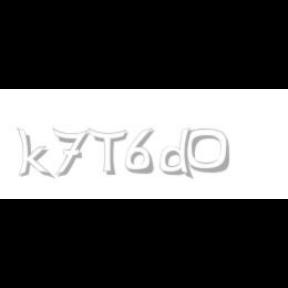6: (126, 128, 154, 176)
7: (53, 128, 90, 178)
O: (186, 128, 230, 174)
T: (87, 128, 127, 176)
d: (160, 128, 197, 180)
k: (16, 128, 54, 180)
